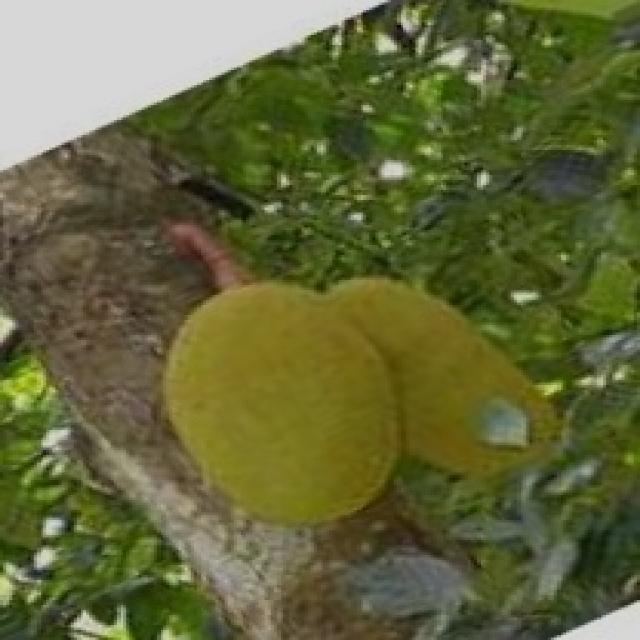Fruit: (126, 242, 474, 560)
